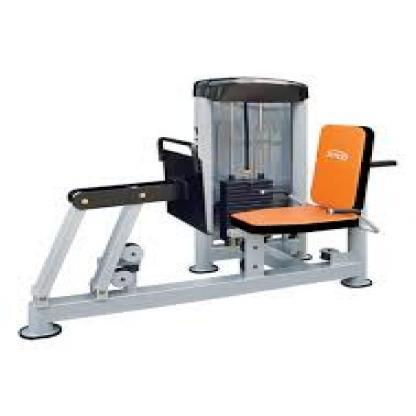leg press: (17, 62, 402, 353)
